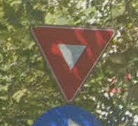cedeaza: (29, 23, 121, 112)
